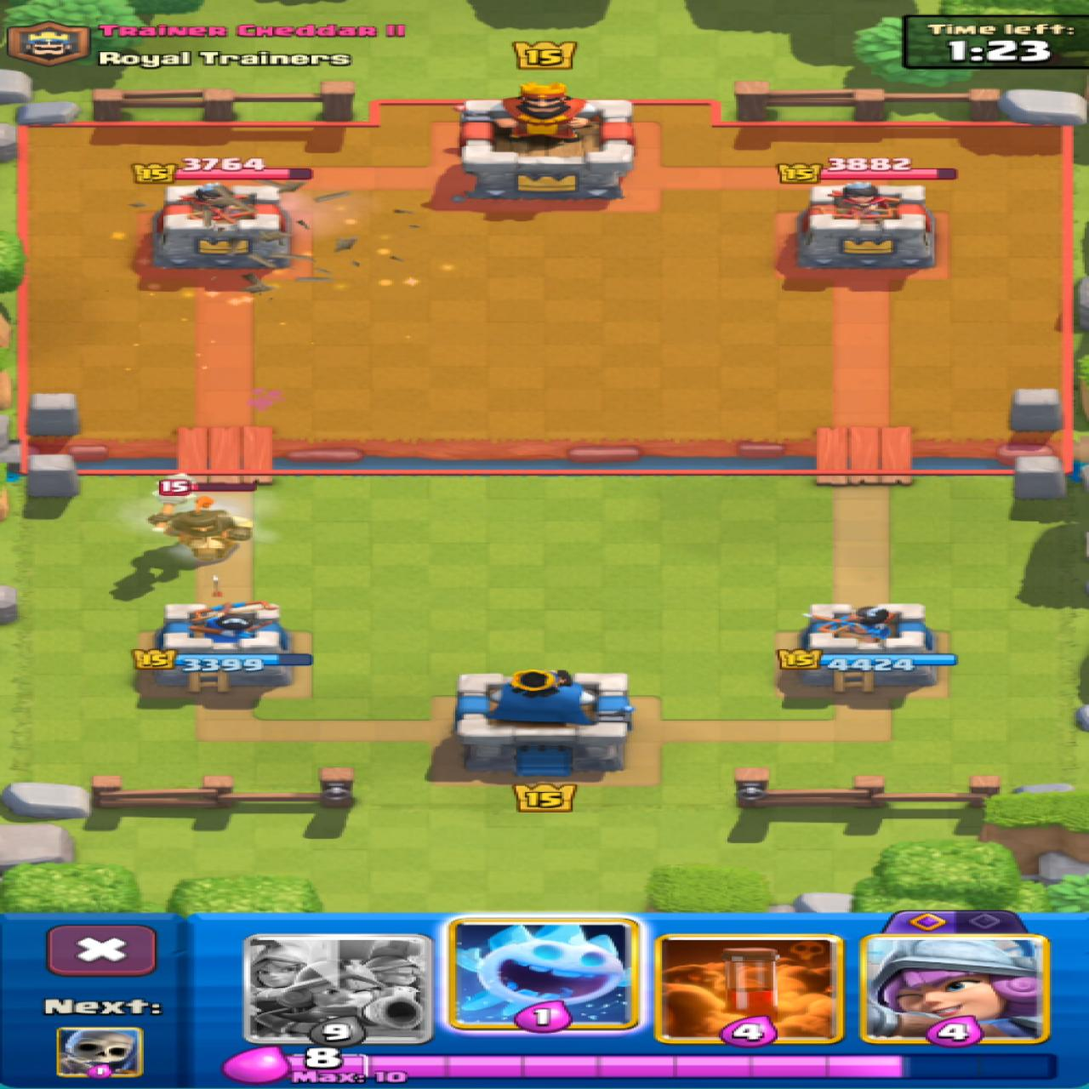Enemy-DarkPrince-Charge: (148, 474, 250, 562)
Enemy-KingTower: (457, 83, 632, 198)
Enemy-PrincessTower: (152, 184, 292, 266), (797, 183, 932, 268)
